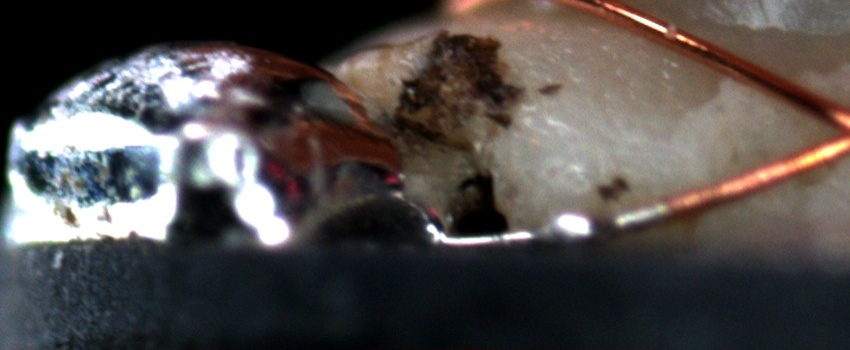CL: (806, 92, 850, 165)
TB: (530, 204, 615, 244)
TTCW: (418, 177, 734, 253)
